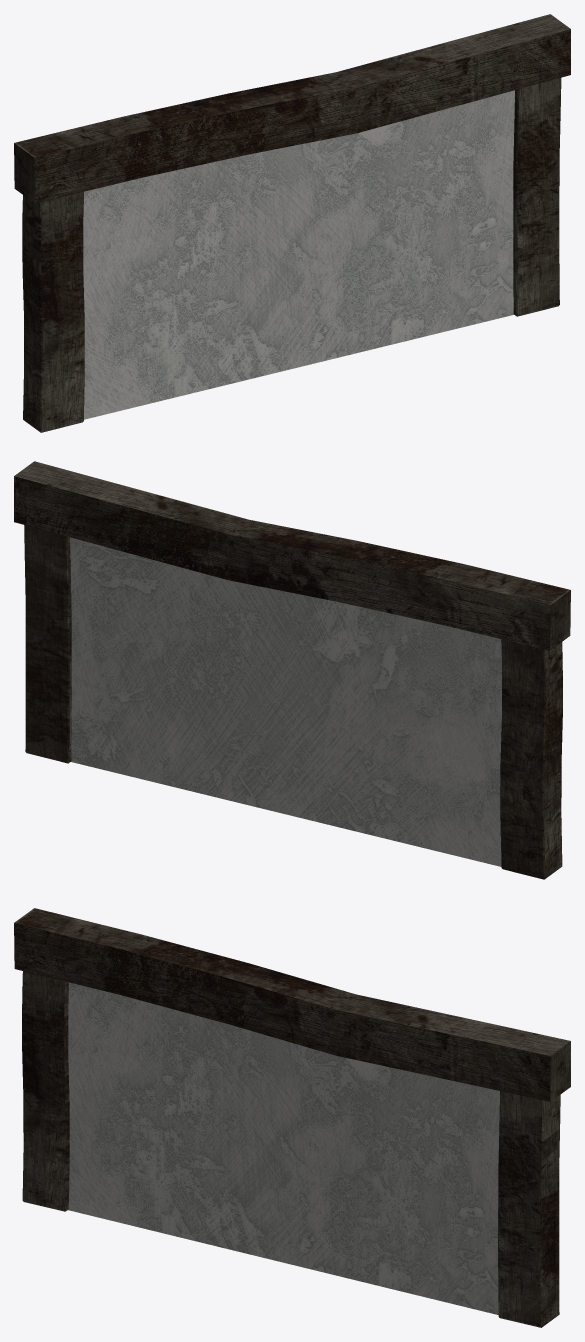
Rendered from TudorWall4.fbx.
The picture shows the model from 3 angles, top to bottom: view 1: azimuth 30°, elevation 25°; view 2: azimuth 150°, elevation 25°; view 3: azimuth 330°, elevation 25°; orthographic projection.
Parts seen in each view (by area): view 1: TudorWall4; view 2: TudorWall4; view 3: TudorWall4.
Boxes of the visible parts, x1,y1,x2,y2 form: TudorWall4: [14, 14, 570, 432]; TudorWall4: [14, 461, 570, 879]; TudorWall4: [14, 908, 570, 1327].
Size of the model in its own units: 489 by 242 by 32.29.
